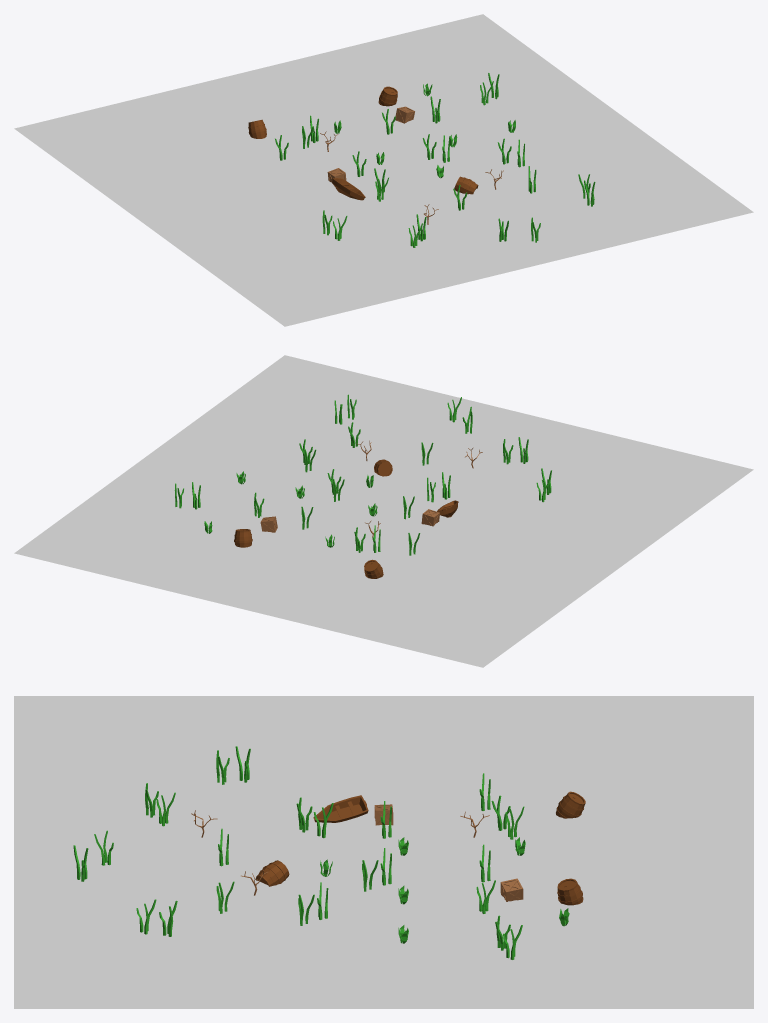
File: tile4.fbx
3 views of the same model, one above another, from view 1: azimuth 30°, elevation 25°; view 2: azimuth 150°, elevation 25°; view 3: azimuth 270°, elevation 25° (orthographic). The views are drawn at different scales.
Visible parts, largest first — view 1: Tile4; view 2: Tile4; view 3: Tile4.
Part boxes in pixels (x1=…): Tile4: x1=14, y1=14, x2=753, y2=326; Tile4: x1=14, y1=355, x2=753, y2=667; Tile4: x1=14, y1=696, x2=753, y2=1008.
Bounding box in the file's own units: 5000 × 304 × 5000.
